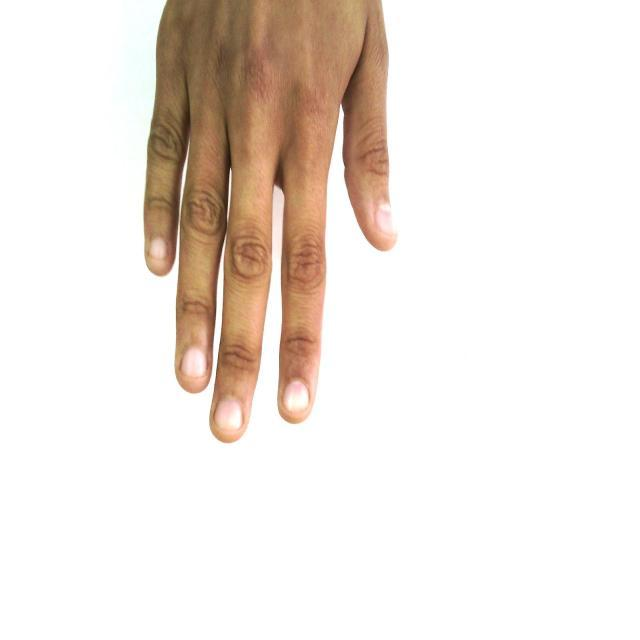Fingernail: (216, 399, 242, 431), (284, 381, 308, 415), (183, 348, 205, 377), (377, 204, 395, 236), (150, 238, 167, 260)
